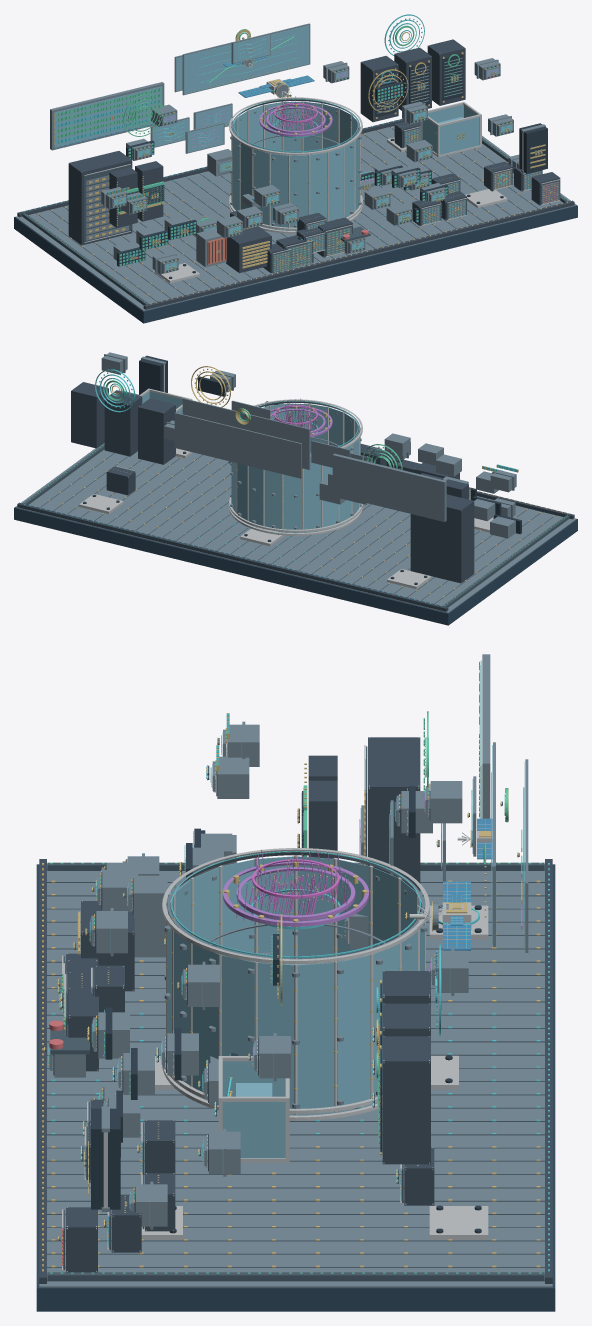
Rendered from Level81_Complete_ArtKit_Showcase.glb.
The picture shows the model from 3 angles, top to bottom: view 1: azimuth 30°, elevation 25°; view 2: azimuth 150°, elevation 25°; view 3: azimuth 270°, elevation 25°; orthographic projection. The views are drawn at different scales.
Visible parts, largest first — view 1: Level81_Complete_ArtKit_Showcase_Node_0001, Level81_Complete_ArtKit_Showcase_Node_0000, Level81_Complete_ArtKit_Showcase_Node_1242, Level81_Complete_ArtKit_Showcase_Node_1978, Level81_Complete_ArtKit_Showcase_Node_0499, Level81_Complete_ArtKit_Showcase_Node_2435, Level81_Complete_ArtKit_Showcase_Node_4713, Level81_Complete_ArtKit_Showcase_Node_4936, Level81_Complete_ArtKit_Showcase_Node_5290, Level81_Complete_ArtKit_Showcase_Node_6210, Level81_Complete_ArtKit_Showcase_Node_5588, Level81_Complete_ArtKit_Showcase_Node_0817 (+36 smaller); view 2: Level81_Complete_ArtKit_Showcase_Node_0001, Level81_Complete_ArtKit_Showcase_Node_0000, Level81_Complete_ArtKit_Showcase_Node_1977, Level81_Complete_ArtKit_Showcase_Node_8257, Level81_Complete_ArtKit_Showcase_Node_2435, Level81_Complete_ArtKit_Showcase_Node_0418, Level81_Complete_ArtKit_Showcase_Node_1241, Level81_Complete_ArtKit_Showcase_Node_4936, Level81_Complete_ArtKit_Showcase_Node_5290, Level81_Complete_ArtKit_Showcase_Node_5113, Level81_Complete_ArtKit_Showcase_Node_0824, Level81_Complete_ArtKit_Showcase_Node_0826 (+29 smaller); view 3: Level81_Complete_ArtKit_Showcase_Node_0001, Level81_Complete_ArtKit_Showcase_Node_0000, Level81_Complete_ArtKit_Showcase_Node_5290, Level81_Complete_ArtKit_Showcase_Node_2435, Level81_Complete_ArtKit_Showcase_Node_0831, Level81_Complete_ArtKit_Showcase_Node_0830, Level81_Complete_ArtKit_Showcase_Node_0629, Level81_Complete_ArtKit_Showcase_Node_0813, Level81_Complete_ArtKit_Showcase_Node_5590, Level81_Complete_ArtKit_Showcase_Node_0418, Level81_Complete_ArtKit_Showcase_Node_0499, Level81_Complete_ArtKit_Showcase_Node_0888 (+52 smaller).
Part boxes in pixels (x1,y1,x2,y2): Level81_Complete_ArtKit_Showcase_Node_0001: (15, 121, 576, 310); Level81_Complete_ArtKit_Showcase_Node_0000: (14, 136, 577, 323); Level81_Complete_ArtKit_Showcase_Node_1242: (184, 25, 309, 94); Level81_Complete_ArtKit_Showcase_Node_1978: (54, 86, 162, 147); Level81_Complete_ArtKit_Showcase_Node_0499: (143, 200, 574, 309); Level81_Complete_ArtKit_Showcase_Node_2435: (68, 151, 132, 245); Level81_Complete_ArtKit_Showcase_Node_4713: (226, 226, 271, 273); Level81_Complete_ArtKit_Showcase_Node_4936: (360, 56, 398, 122); Level81_Complete_ArtKit_Showcase_Node_5290: (427, 39, 465, 105); Level81_Complete_ArtKit_Showcase_Node_6210: (519, 123, 547, 173); Level81_Complete_ArtKit_Showcase_Node_5588: (440, 117, 479, 154); Level81_Complete_ArtKit_Showcase_Node_0817: (310, 152, 327, 221); Level81_Complete_ArtKit_Showcase_Node_0001: (15, 443, 576, 612); Level81_Complete_ArtKit_Showcase_Node_0000: (14, 449, 577, 625); Level81_Complete_ArtKit_Showcase_Node_1977: (332, 453, 446, 521); Level81_Complete_ArtKit_Showcase_Node_8257: (174, 412, 301, 478); Level81_Complete_ArtKit_Showcase_Node_2435: (410, 494, 474, 583); Level81_Complete_ArtKit_Showcase_Node_0418: (17, 502, 448, 611); Level81_Complete_ArtKit_Showcase_Node_1241: (182, 398, 310, 469); Level81_Complete_ArtKit_Showcase_Node_4936: (138, 398, 175, 464); Level81_Complete_ArtKit_Showcase_Node_5290: (71, 382, 108, 448); Level81_Complete_ArtKit_Showcase_Node_5113: (104, 390, 142, 456); Level81_Complete_ArtKit_Showcase_Node_0824: (303, 457, 321, 529); Level81_Complete_ArtKit_Showcase_Node_0826: (264, 470, 281, 528); Level81_Complete_ArtKit_Showcase_Node_0001: (39, 864, 552, 1287); Level81_Complete_ArtKit_Showcase_Node_0000: (36, 864, 555, 1311); Level81_Complete_ArtKit_Showcase_Node_5290: (382, 1036, 430, 1164); Level81_Complete_ArtKit_Showcase_Node_2435: (368, 737, 420, 891); Level81_Complete_ArtKit_Showcase_Node_0831: (297, 962, 334, 1108); Level81_Complete_ArtKit_Showcase_Node_0830: (337, 955, 370, 1105); Level81_Complete_ArtKit_Showcase_Node_0629: (47, 1272, 544, 1280); Level81_Complete_ArtKit_Showcase_Node_0813: (221, 955, 254, 1055); Level81_Complete_ArtKit_Showcase_Node_5590: (222, 1102, 285, 1158); Level81_Complete_ArtKit_Showcase_Node_0418: (545, 859, 552, 1283); Level81_Complete_ArtKit_Showcase_Node_0499: (39, 859, 46, 1283); Level81_Complete_ArtKit_Showcase_Node_0888: (162, 848, 429, 964).
Bounding box in the file's own units: 24 × 8.19 × 12.4.
